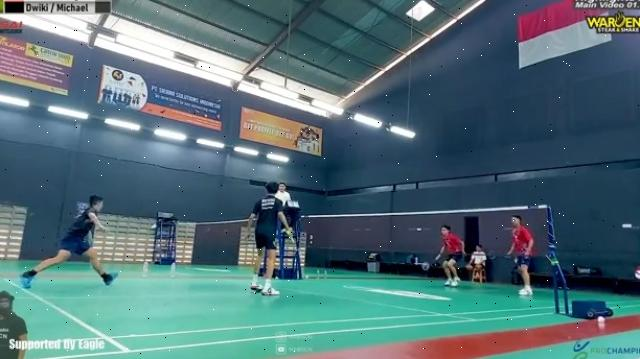Shuttlecock: (149, 224, 159, 231)
